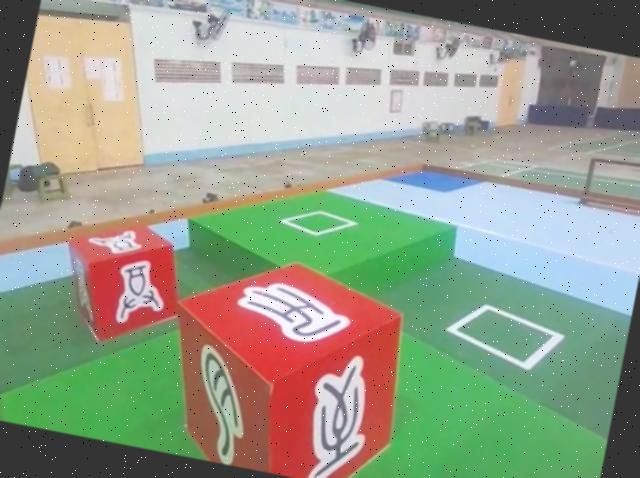R2 Fake: (144, 236, 426, 478)
R2 Real: (46, 204, 194, 360)
